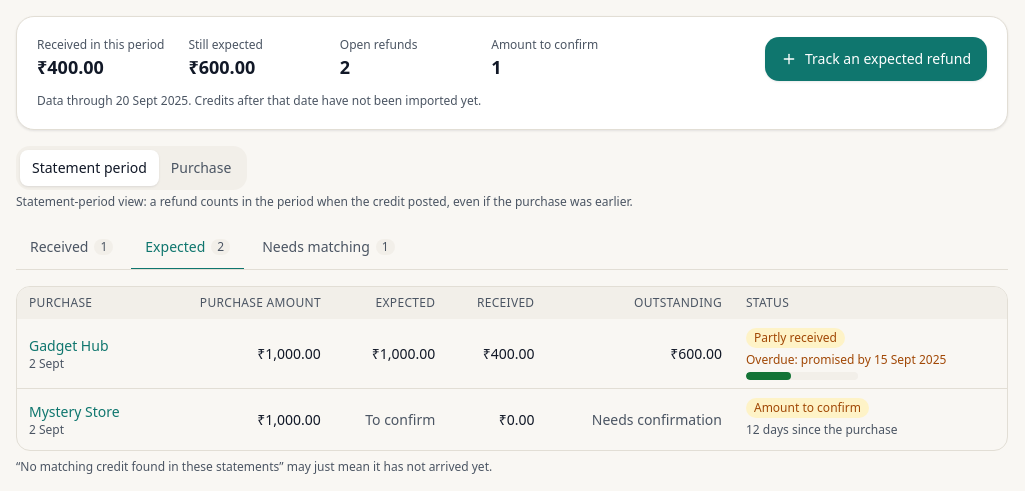
Scenario: MoneyBackPage › explains the two ways of counting and switches the received list
The width and height of the screenshot is (1025, 491).
Check: the text "refund counts in the period when the credit posted" is shown, box [16,193,633,210]
Click the tab "Received 1": {"x": 72, "y": 248} [16,226,127,270]
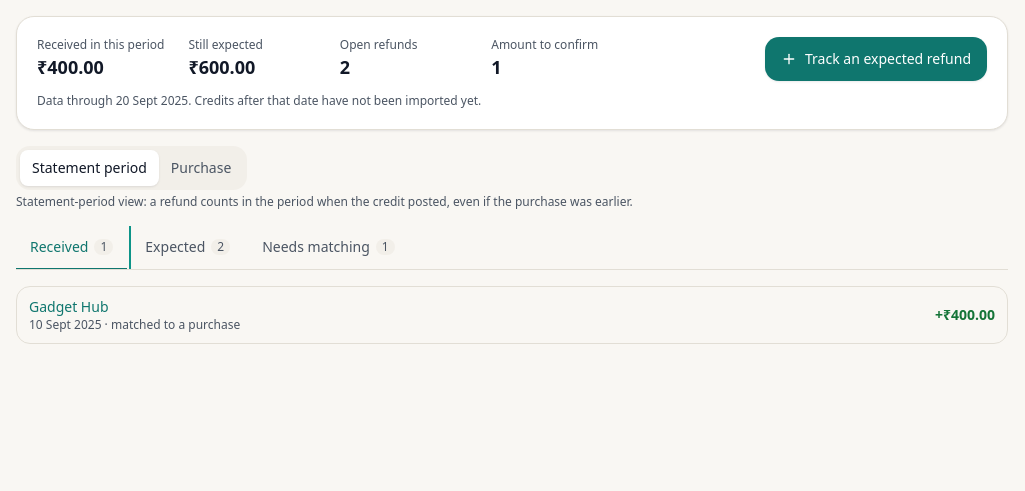
Check: the list named "Credits received" is shown, box [16,286,1008,344]
Click the radio button labelled "Purchase": {"x": 201, "y": 168} [159,150,243,186]
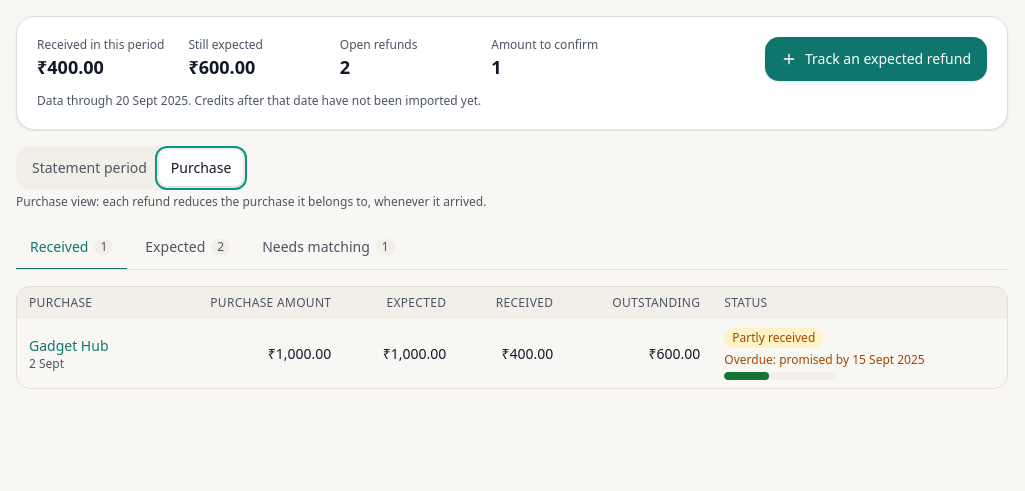
Check: the text "each refund reduces the purchase it belongs to" is shown, box [16,193,486,210]
Check: the table named "Refunds you are tracking" is shown, box [17,287,1007,388]
